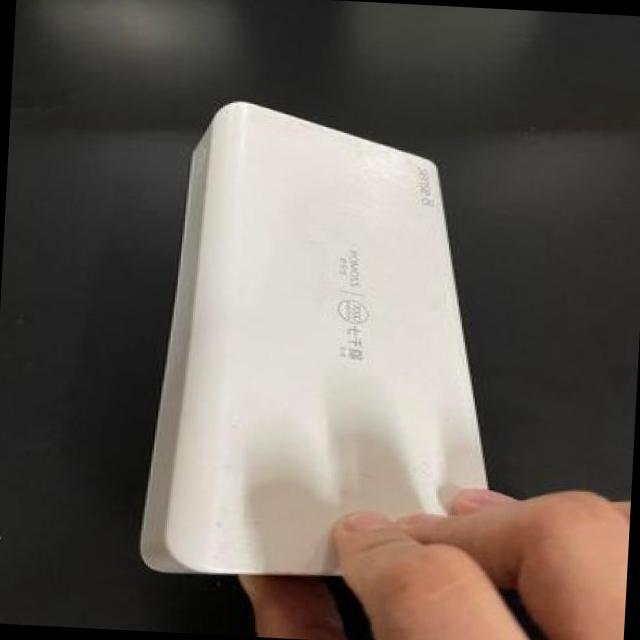portable-charger: (128, 94, 531, 606)
